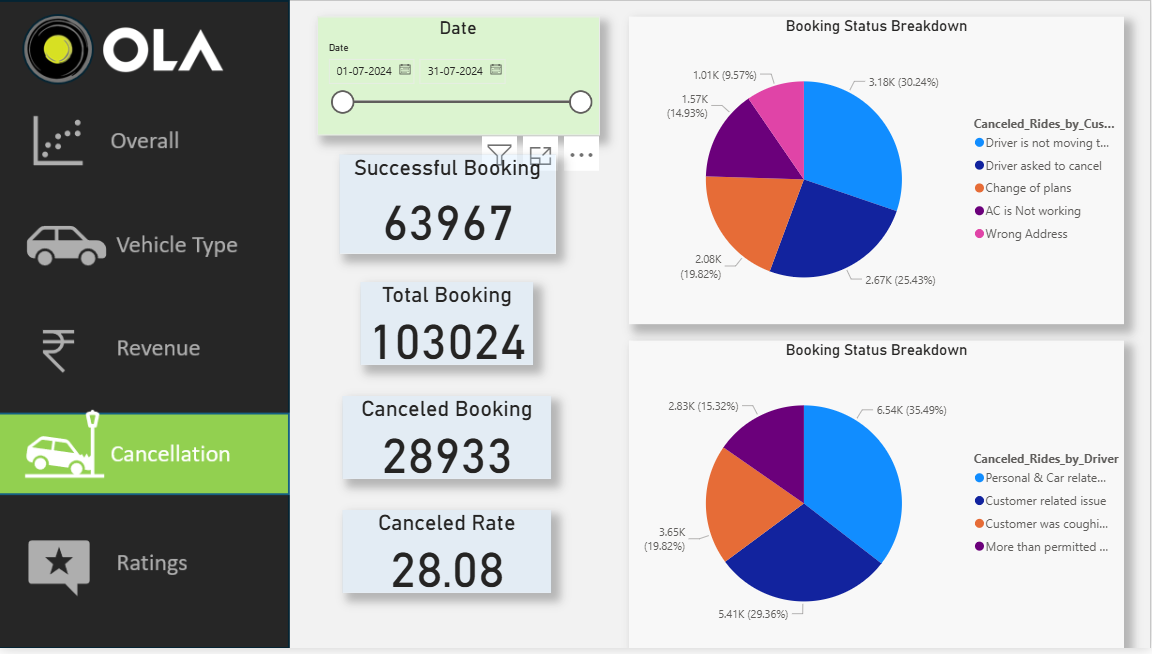

The page's visual inventory and layout, read from the dashboard file:
{"tool":"powerbi","page":{"name":"Cancellation","canvas":[1280,720],"ordinal":3},"visuals":[{"type":"pieChart","title":" Booking Status Breakdown","fields":{"Y":["CountNonNull(July.Booking_Status)"],"Category":["July.Canceled_Rides_by_Customer"]},"box":[700,18,550,342],"z":0},{"type":"pieChart","title":" Booking Status Breakdown","fields":{"Category":["July.Canceled_Rides_by_Driver"],"Y":["CountNonNull(July.Canceled_Rides_by_Driver)"]},"box":[700,378,550,342],"z":1000},{"type":"slicer","title":"Date","fields":{"Values":["July.Date"]},"box":[354,18,314,132],"z":2000},{"type":"card","title":"Successful Booking","fields":{"Values":["CountNonNull(July.Booking_ID)"]},"box":[378,172,240,110],"z":3000},{"type":"card","title":"Total Booking","fields":{"Values":["CountNonNull(July.Booking_ID)"]},"box":[402,314,192,92],"z":4000},{"type":"card","title":"Canceled Booking","fields":{"Values":["CountNonNull(July.Booking_ID)"]},"box":[382,440,232,92],"z":5000},{"type":"card","title":"Canceled Rate","fields":{"Values":["July.CanceledPercentage"]},"box":[382,566,232,92],"z":6000}]}

Visuals, with their boxes on the page's 1280x720 design canvas (x1, y1, x2, y2). These are canvas units, not pixel positions in the 1152x654 screenshot, which may show the page scaled, cropped or inside an application window:
" Booking Status Breakdown" pieChart: bbox=(700, 18, 1250, 360)
" Booking Status Breakdown" pieChart: bbox=(700, 378, 1250, 720)
"Date" slicer: bbox=(354, 18, 668, 150)
"Successful Booking" card: bbox=(378, 172, 618, 282)
"Total Booking" card: bbox=(402, 314, 594, 406)
"Canceled Booking" card: bbox=(382, 440, 614, 532)
"Canceled Rate" card: bbox=(382, 566, 614, 658)
